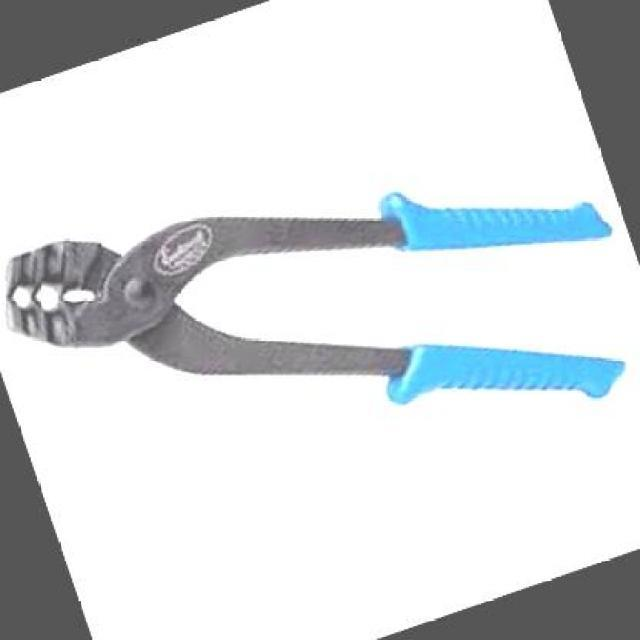pliers: (0, 43, 638, 584)
